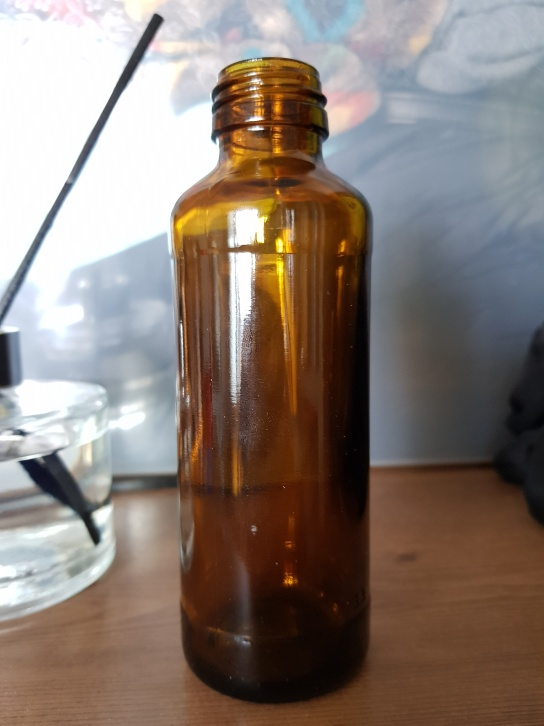Glass: (172, 56, 373, 700)
